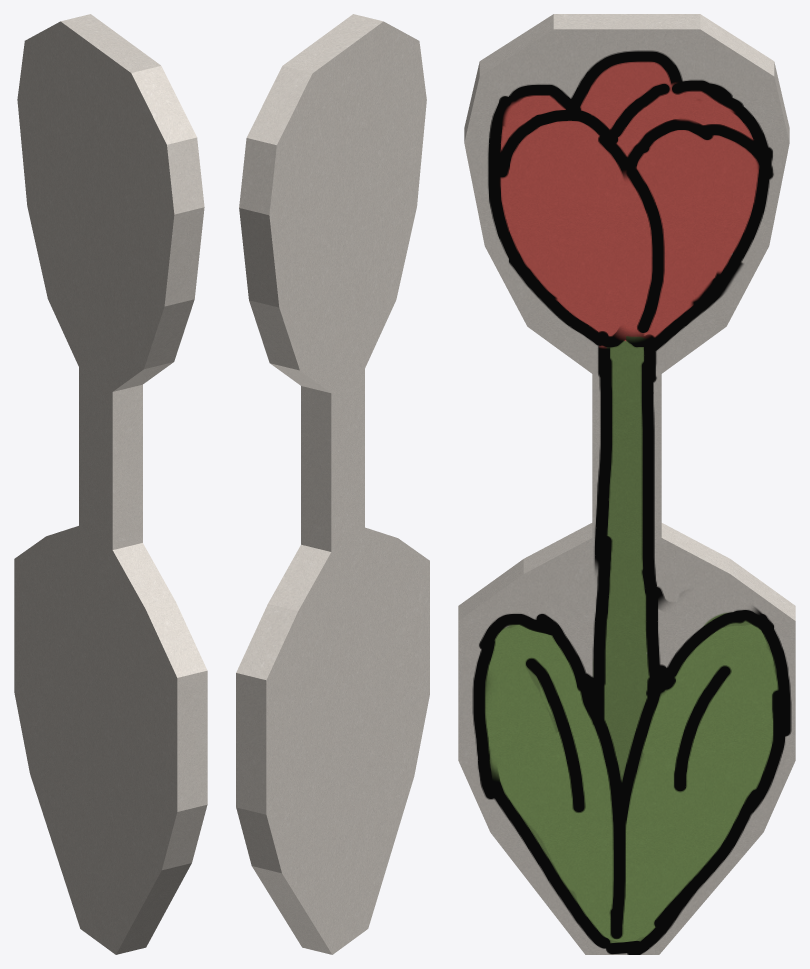
The model's file is Flower.fbx.
3 views of the same model, side by side, from view 1: azimuth 30°, elevation 25°; view 2: azimuth 150°, elevation 25°; view 3: azimuth 270°, elevation 25° (orthographic). The views are drawn at different scales.
Visible parts, largest first — view 1: Flower 2; view 2: Flower 2; view 3: Flower 2.
Boxes of the visible parts, x1=… form: Flower 2: x1=14, y1=14, x2=207, y2=954; Flower 2: x1=236, y1=14, x2=429, y2=954; Flower 2: x1=458, y1=14, x2=795, y2=954.
Size of the model in its own units: 2.59 by 73.21 by 24.2.
